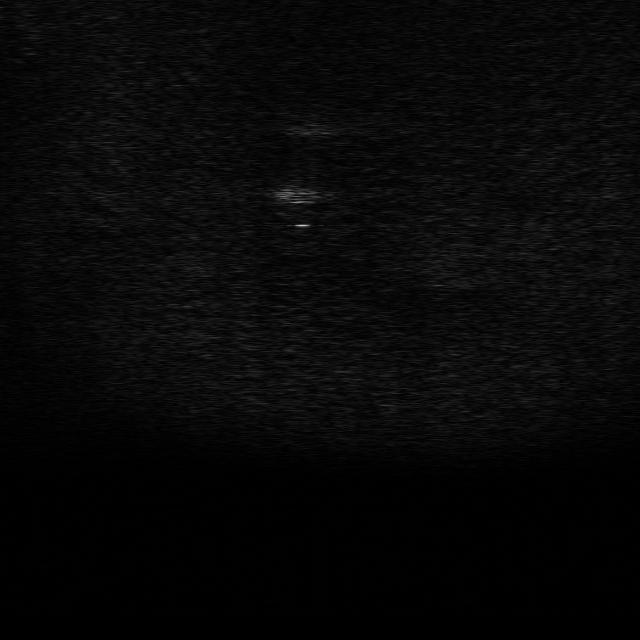plane: (275, 179, 336, 230)
